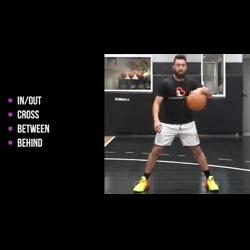BasketBall: (185, 86, 208, 112)
